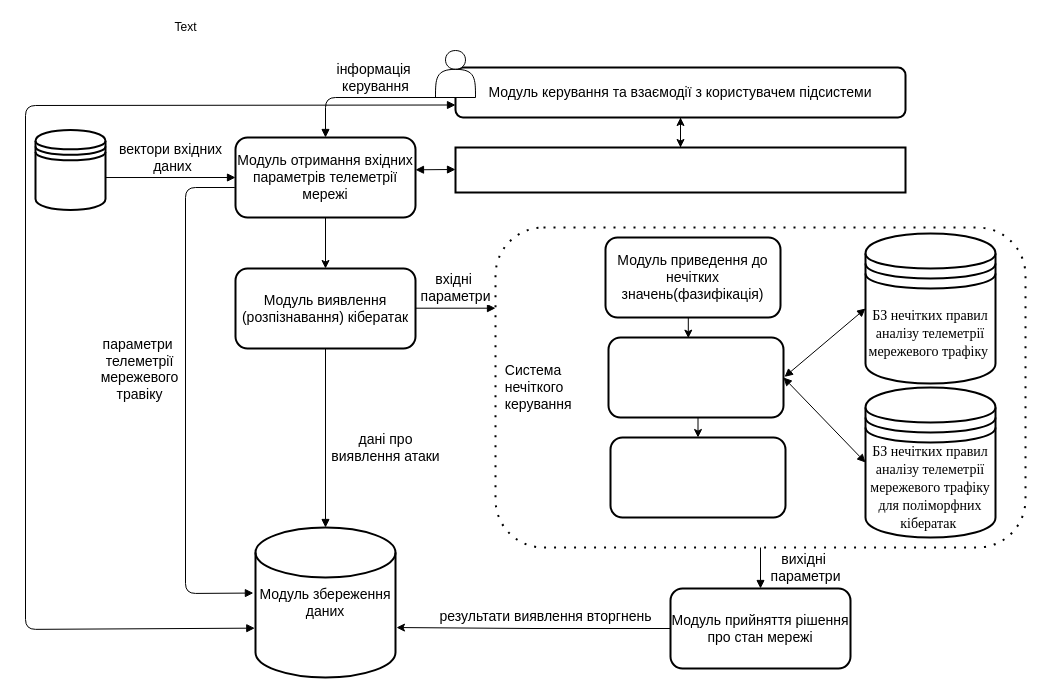
Image size: 1044x695. Some labels were removed from this diagram. Here are the shapes that lost their labels. From the top down, the box of each, then its label:
(34, 128, 106, 210): БЗ KDD99
(454, 146, 906, 193): Інформаційна система
(607, 336, 784, 418): Модуль нечіткого логічного виводу
(609, 436, 786, 518): Модуль приведення до чітких значень(дефазифікація)
